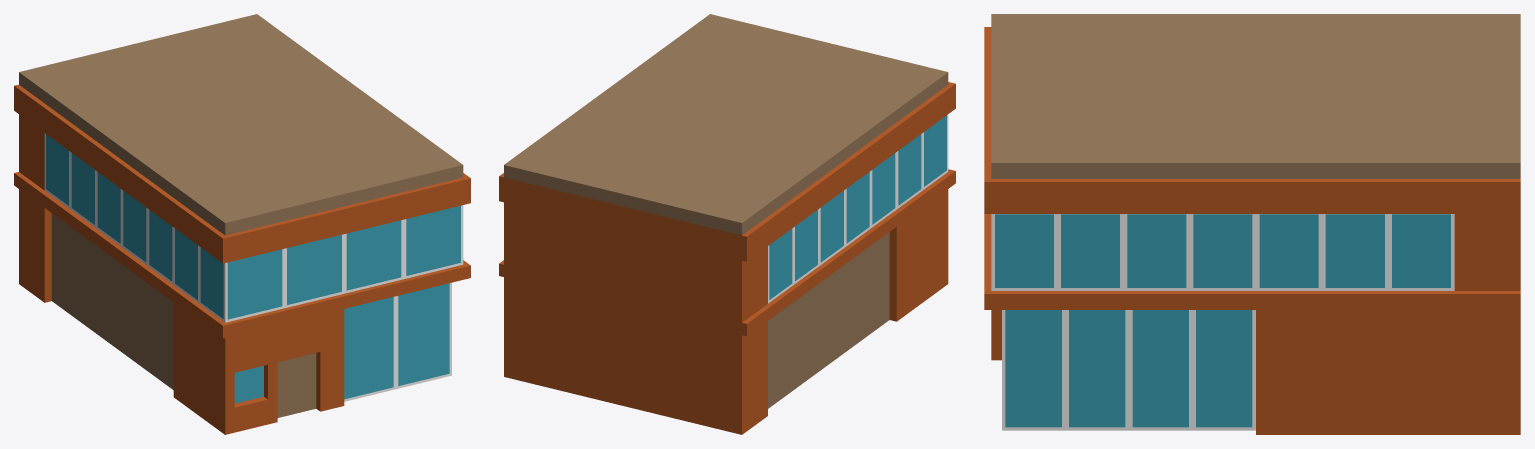
3 views of the same model, side by side, from view 1: azimuth 30°, elevation 25°; view 2: azimuth 150°, elevation 25°; view 3: azimuth 270°, elevation 25° (orthographic). The views are drawn at different scales.
Visible parts, largest first — view 1: Model; view 2: Model; view 3: Model.
Boxes of the visible parts, bbox=[...] form: Model: bbox=[14, 14, 470, 434]; Model: bbox=[499, 14, 955, 434]; Model: bbox=[984, 14, 1520, 434].
Size of the model in its own units: 10.4 by 8.5 by 15.2.
